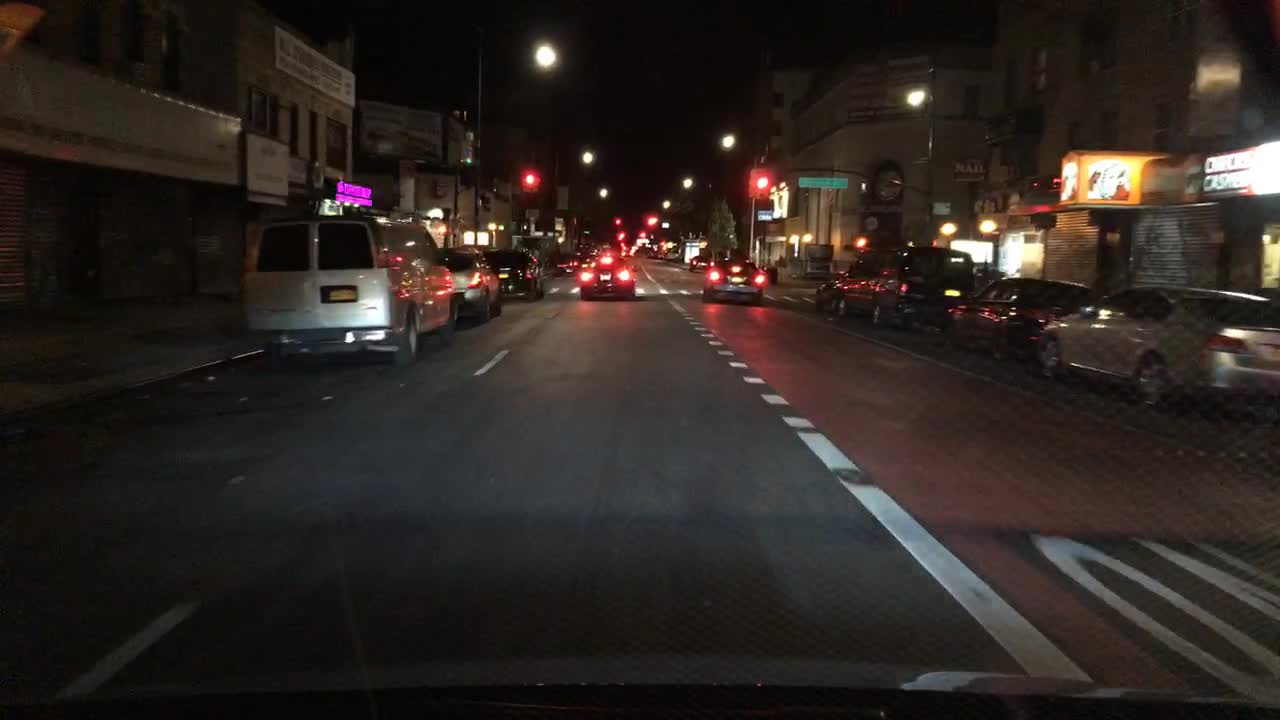car: (237, 213, 460, 367), (1031, 284, 1279, 417), (813, 246, 974, 334), (943, 277, 1094, 365), (438, 243, 502, 326), (479, 247, 545, 303), (699, 255, 764, 308), (576, 254, 637, 302), (554, 250, 579, 278), (687, 255, 713, 271), (595, 245, 621, 255), (645, 248, 663, 261), (665, 246, 679, 259), (580, 252, 593, 265)
traffic light: (753, 174, 769, 194), (523, 169, 536, 188), (643, 213, 658, 226), (613, 216, 620, 226)
traffic sign: (797, 177, 847, 188), (932, 201, 950, 215)
